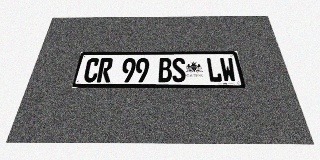9: (121, 58, 136, 82), (135, 58, 149, 82)
B: (158, 58, 172, 82)
C: (82, 58, 100, 82)
L: (206, 58, 223, 82)
R: (96, 58, 113, 82)
S: (172, 58, 186, 82)
W: (219, 58, 237, 82)
